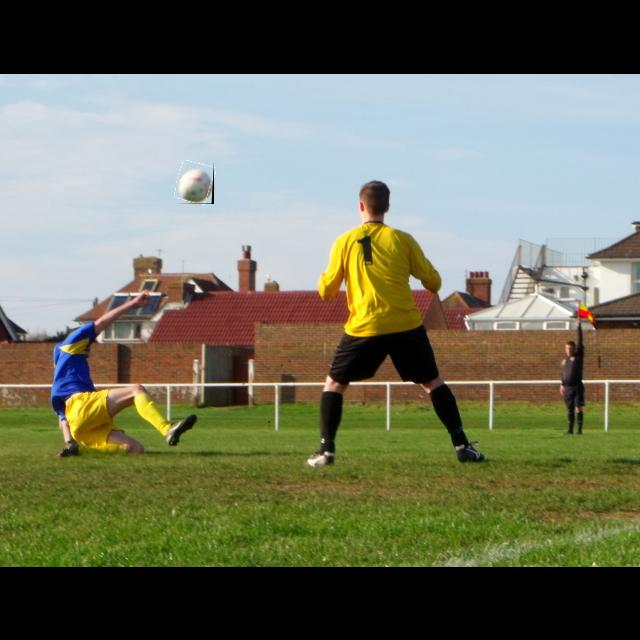Football: (176, 162, 214, 204)
